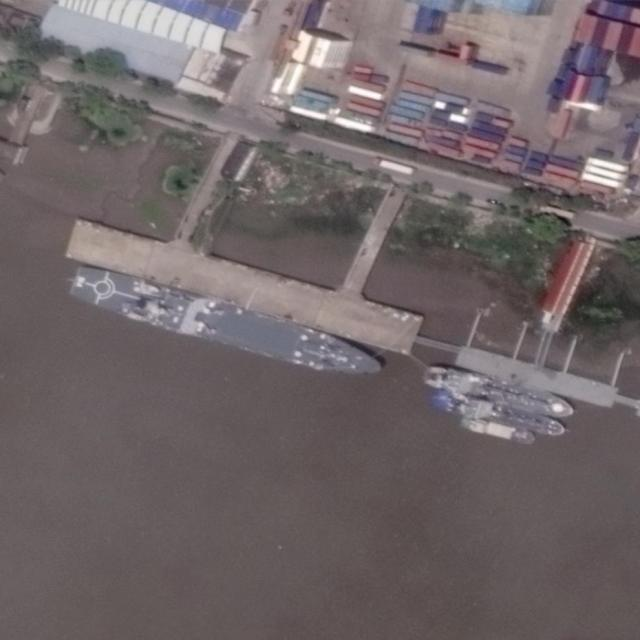Landing: (67, 262, 390, 385)
Other Warship: (418, 360, 579, 422), (429, 385, 568, 440), (454, 414, 538, 449)
